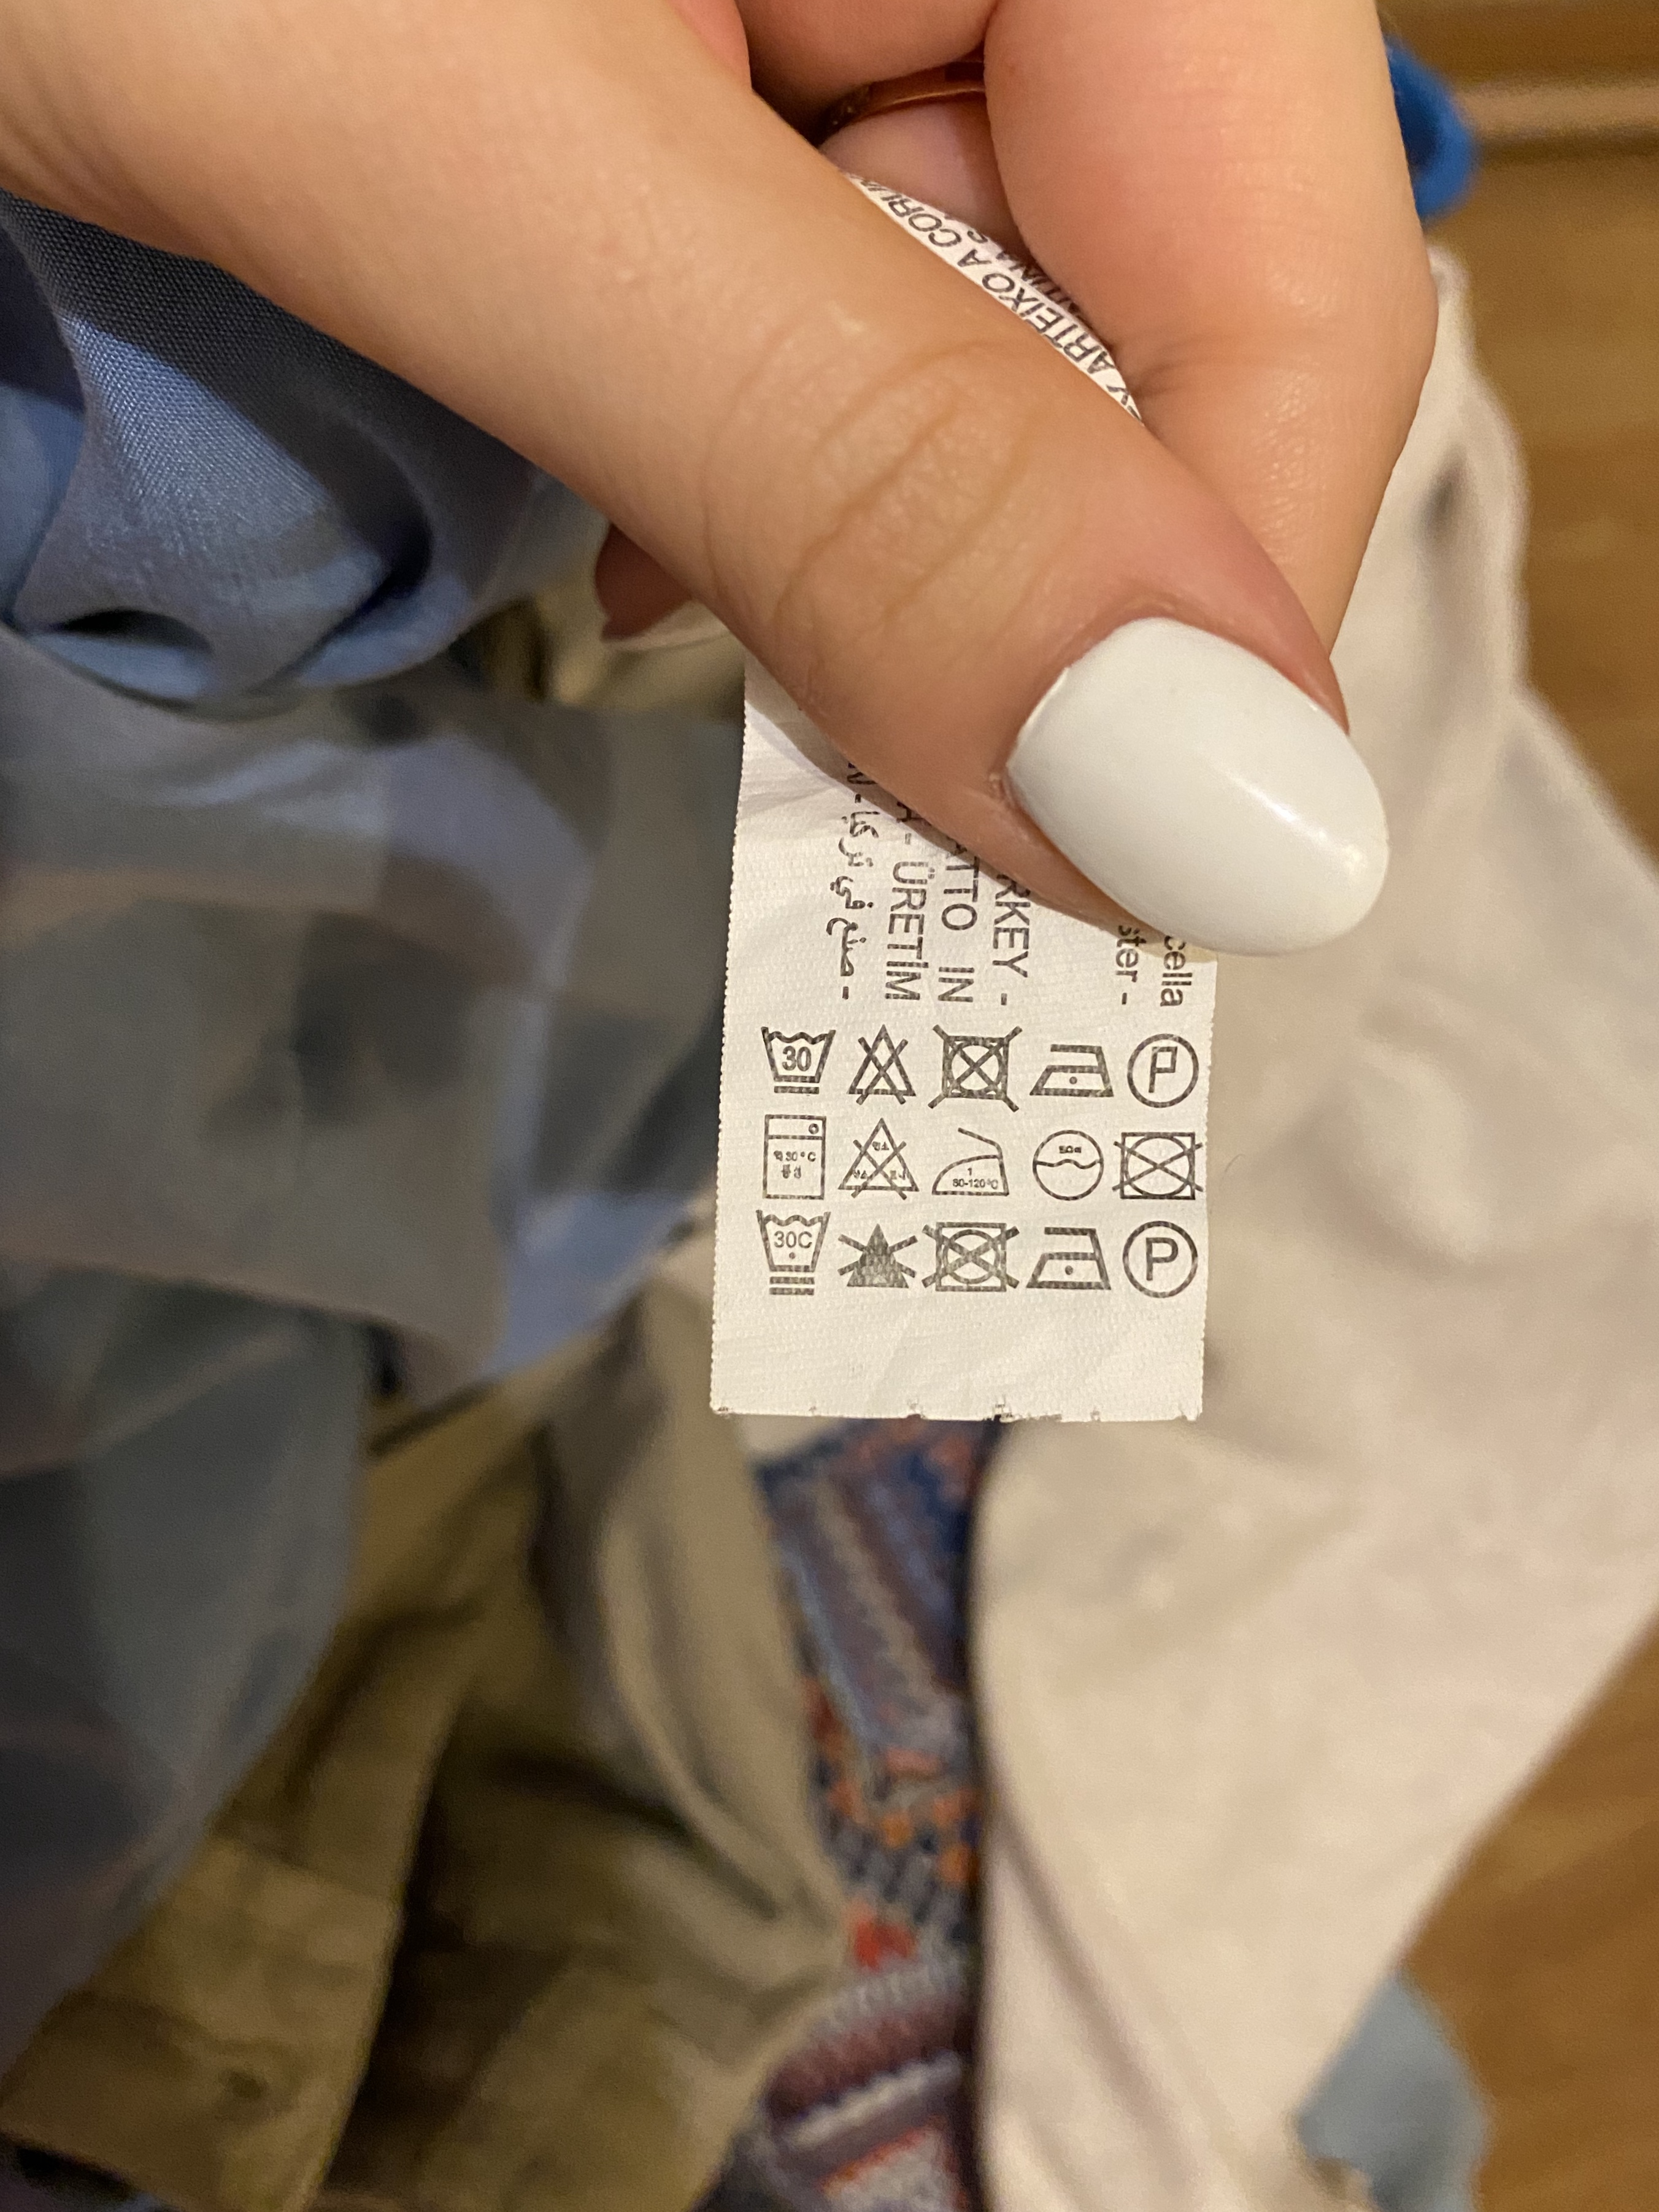do_not_bleach: (836, 1216, 918, 1294), (847, 1021, 918, 1108)
do_not_tumble_drying: (931, 1017, 1025, 1111), (924, 1212, 1019, 1301), (1112, 1125, 1204, 1205)
dry_clean_tetrachloroethylene_pce_only: (1119, 1217, 1201, 1301), (1126, 1031, 1202, 1109)
ironing_at_low_temp: (1026, 1219, 1114, 1298), (1028, 1035, 1121, 1106)
wash_at_or_below_30_mild_fine_wash: (753, 1205, 831, 1287), (760, 1019, 838, 1099)
